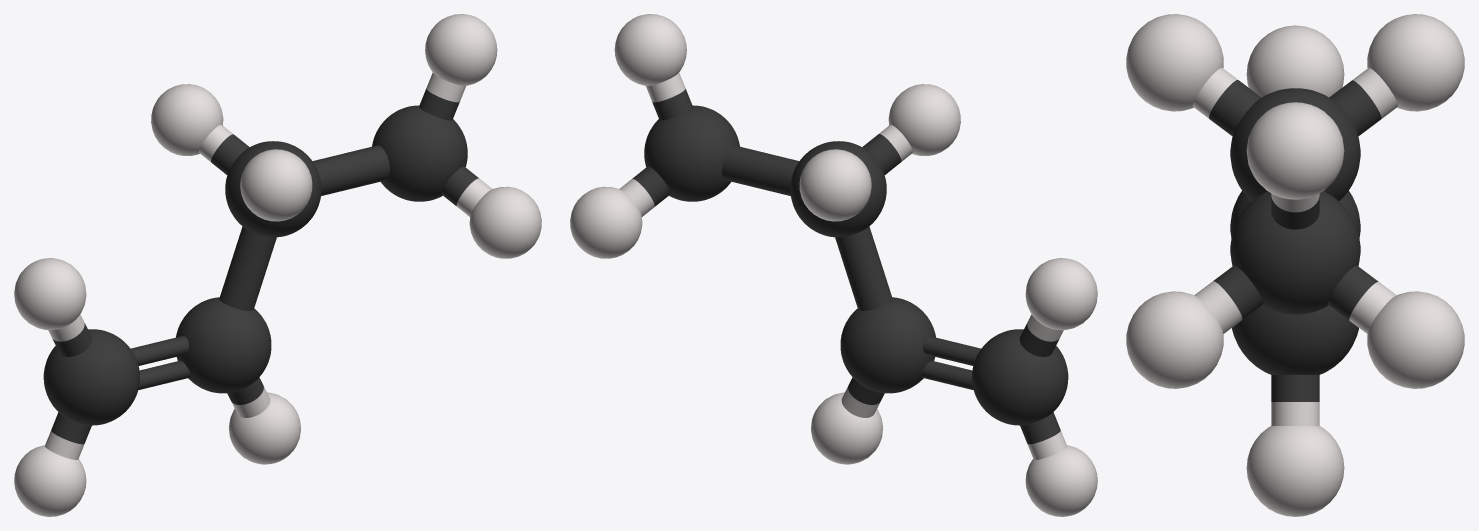
File: dxq.gltf
3 views of the same model, side by side, from view 1: azimuth 30°, elevation 25°; view 2: azimuth 150°, elevation 25°; view 3: azimuth 270°, elevation 25° (orthographic). The views are drawn at different scales.
Parts seen in each view (by area): view 1: 4; view 2: 4; view 3: 4.
Boxes of the visible parts, x1=… form: 4: x1=14, y1=14, x2=541, y2=516; 4: x1=570, y1=14, x2=1097, y2=516; 4: x1=1126, y1=14, x2=1464, y2=516.
Bounding box in the file's own units: 45.34 × 36.23 × 20.77.
Materials: 2 (2 with a texture image).
